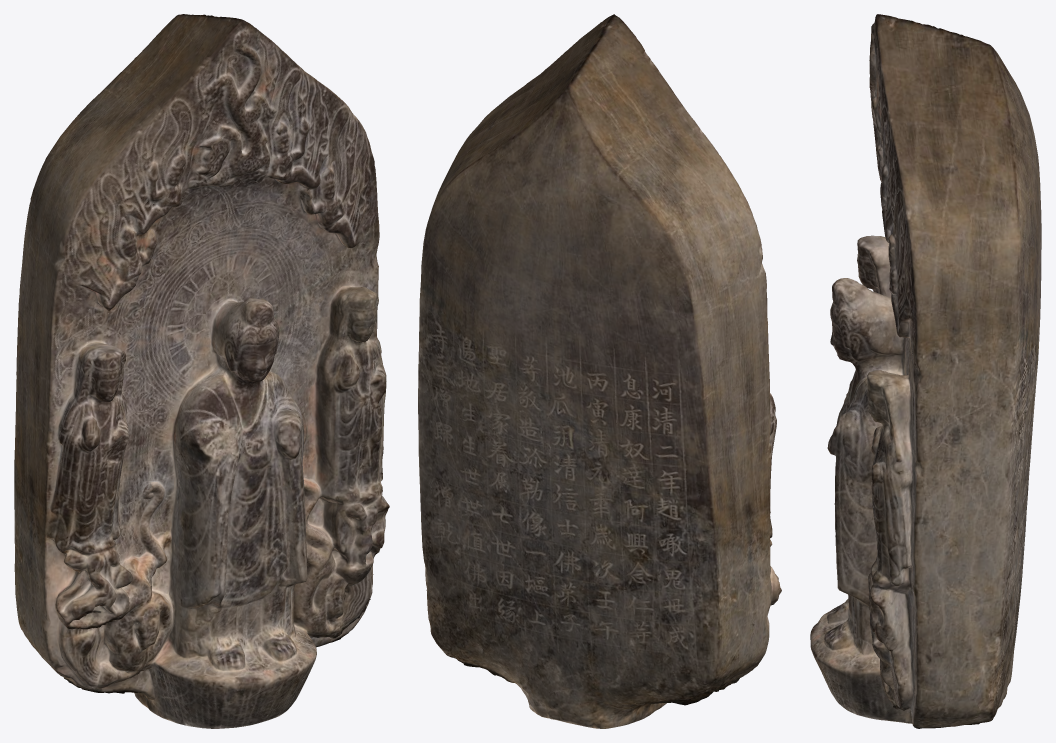
Rendered from maitreya-stele.glb.
3 views of the same model, side by side, from view 1: azimuth 30°, elevation 25°; view 2: azimuth 150°, elevation 25°; view 3: azimuth 270°, elevation 25° (orthographic). The views are drawn at different scales.
Visible parts, largest first — view 1: Object_2; view 2: Object_2; view 3: Object_2.
Boxes of the visible parts, x1,y1,x2,y2 form: Object_2: [14, 14, 389, 728]; Object_2: [418, 14, 781, 728]; Object_2: [810, 14, 1041, 728].
Bounding box in the file's own units: 0.2777 × 0.5459 × 0.1658.
1 material, 1 textured.
